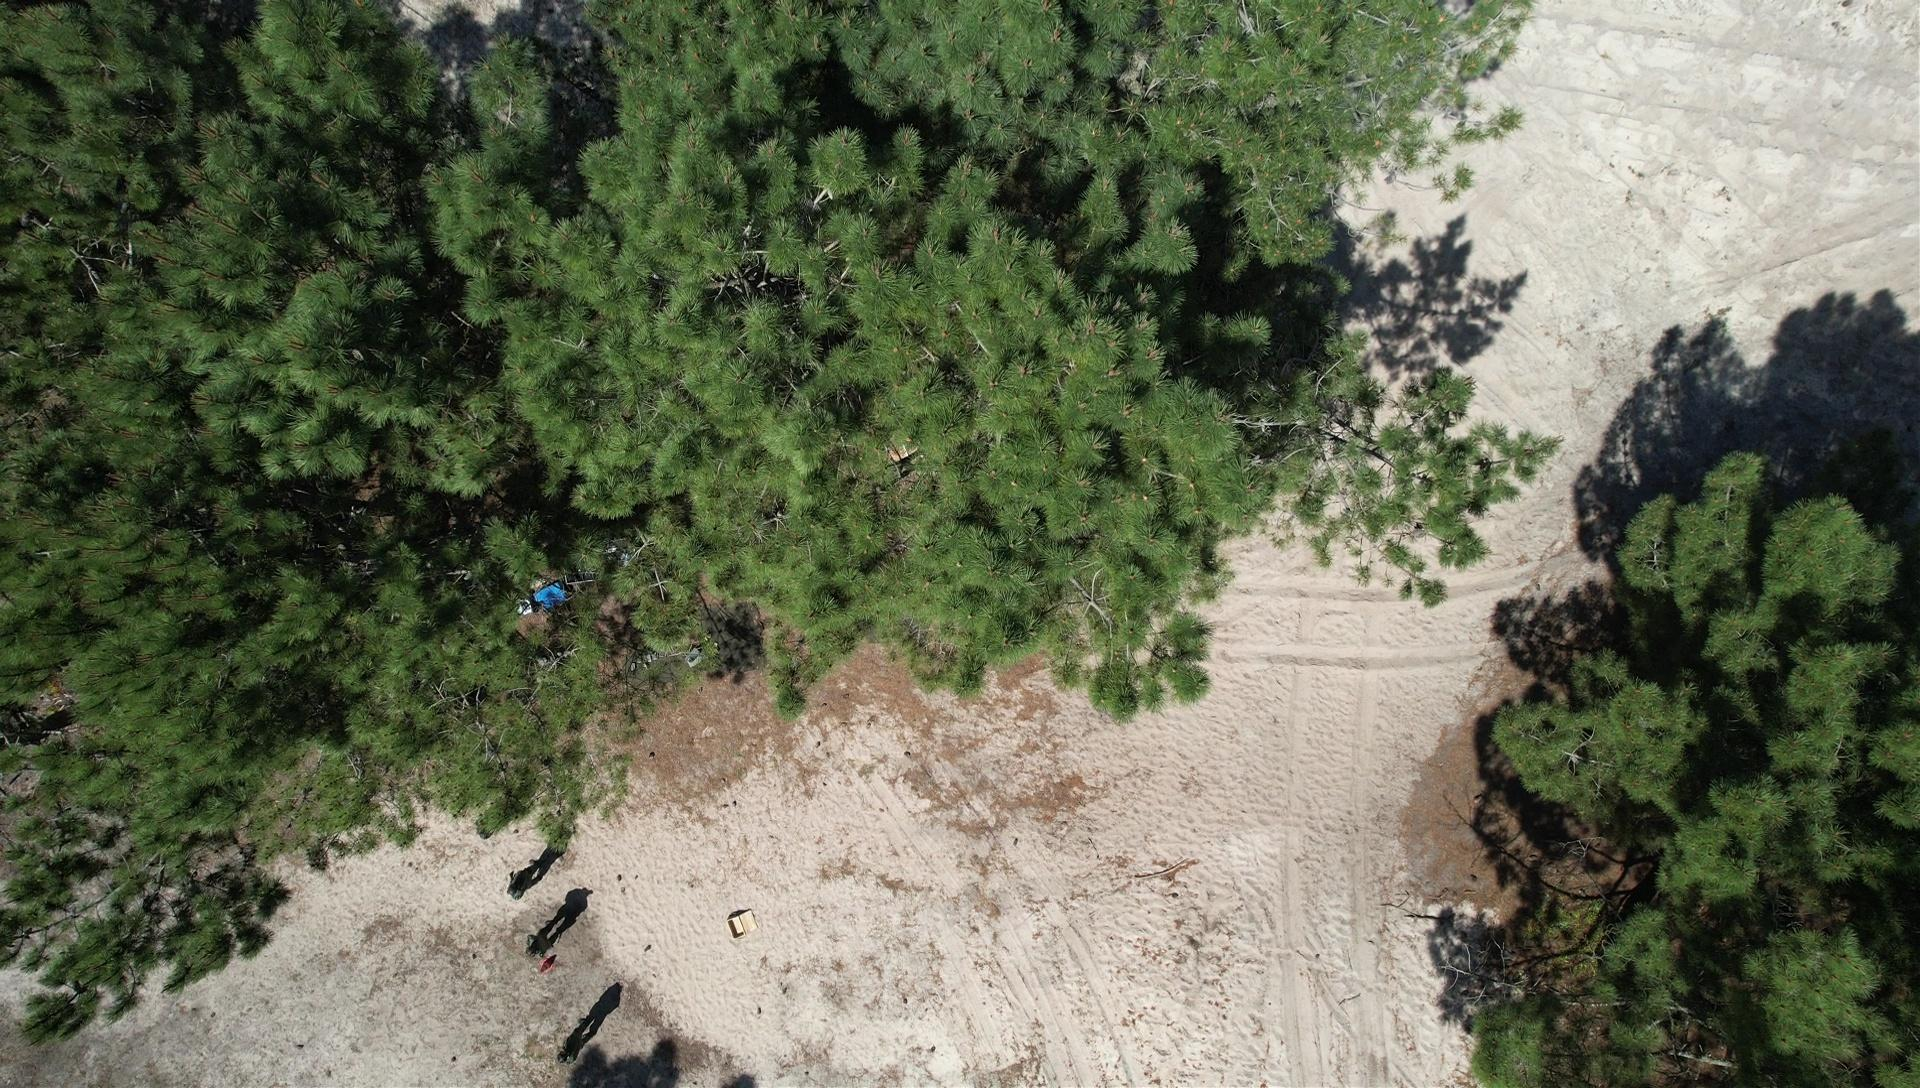Soldier: (549, 1023, 607, 1067), (520, 924, 568, 957), (502, 868, 545, 903)
